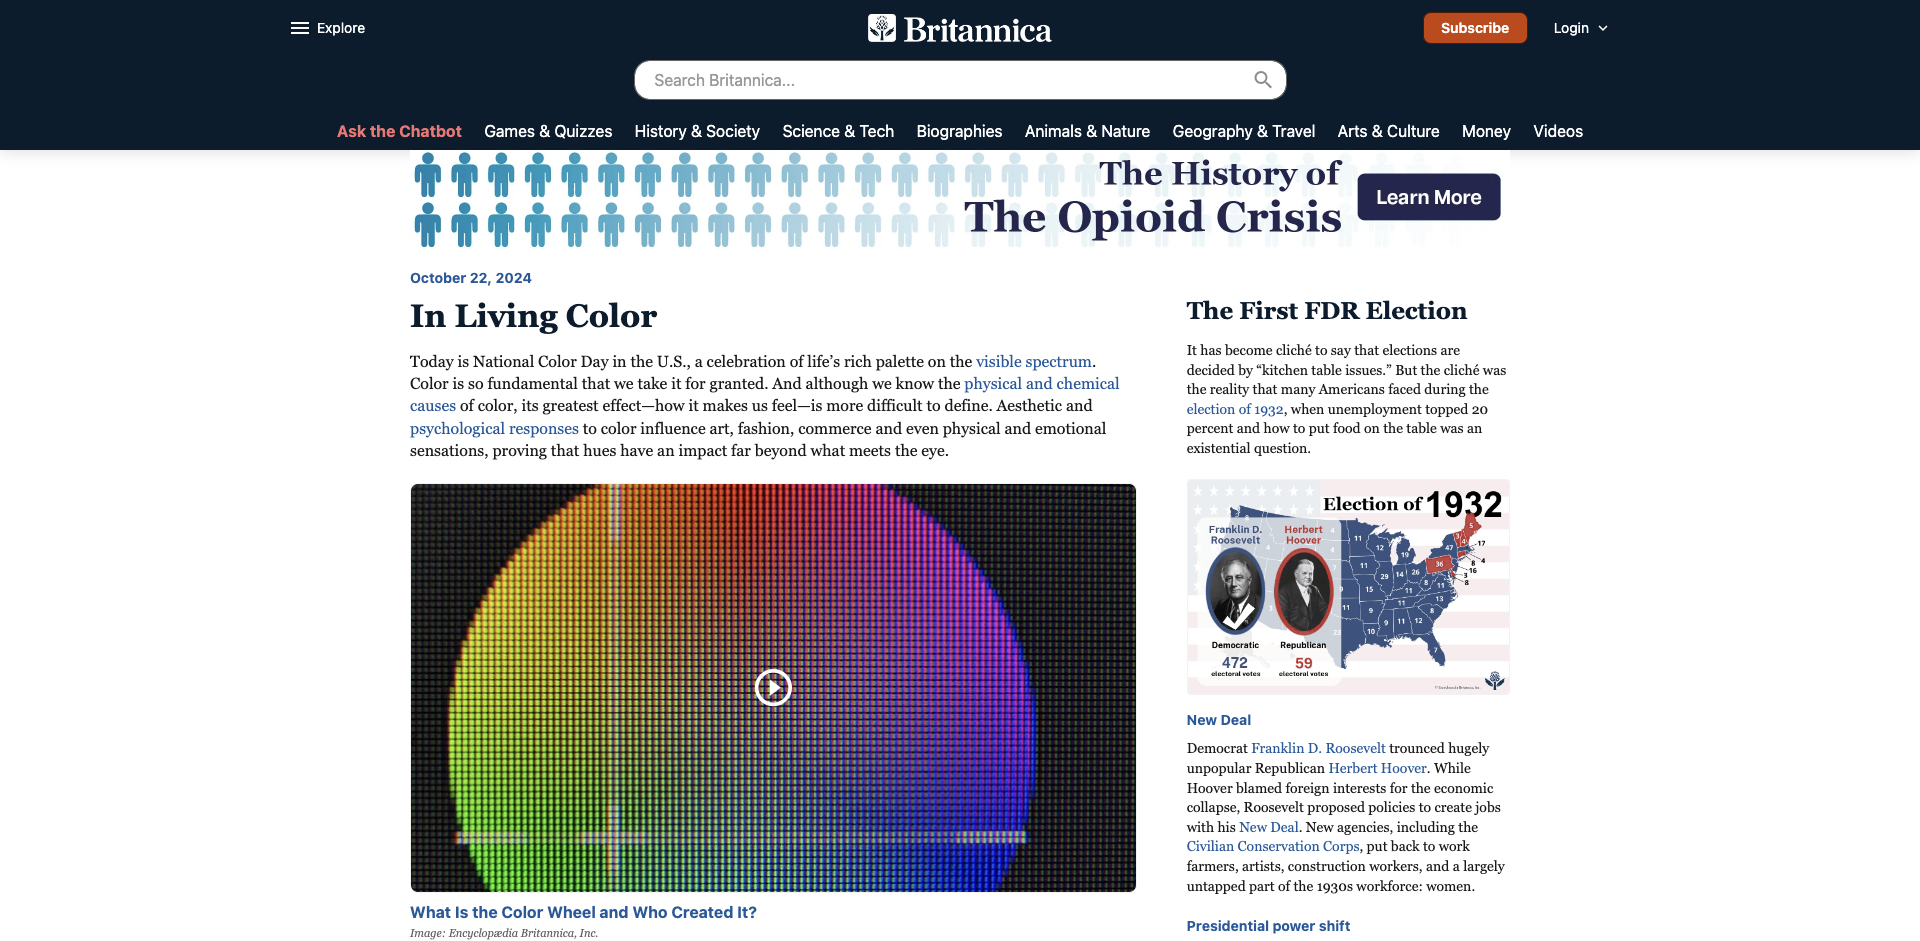button: (730, 648, 817, 728), (277, 5, 376, 51), (1538, 6, 1629, 49), (1423, 12, 1528, 44), (1240, 60, 1287, 100), (321, 116, 353, 148), (1567, 116, 1599, 148)
input: (633, 60, 1287, 100)
label: (633, 59, 633, 60)
link: (389, 151, 1531, 250), (410, 374, 1119, 415), (410, 298, 658, 334), (1187, 298, 1467, 325), (410, 903, 757, 921), (1187, 709, 1510, 729), (1187, 916, 1510, 936), (1173, 120, 1315, 146), (485, 120, 612, 146), (634, 120, 760, 146), (337, 120, 462, 146), (1025, 120, 1150, 146), (410, 419, 579, 437), (782, 120, 894, 146), (1187, 838, 1359, 854), (1337, 120, 1440, 146), (917, 120, 1003, 146), (1251, 740, 1386, 756), (976, 352, 1092, 370), (410, 270, 531, 287), (1329, 760, 1427, 776), (1187, 401, 1283, 417), (1533, 120, 1583, 146), (1462, 120, 1511, 146), (1239, 818, 1299, 834)
